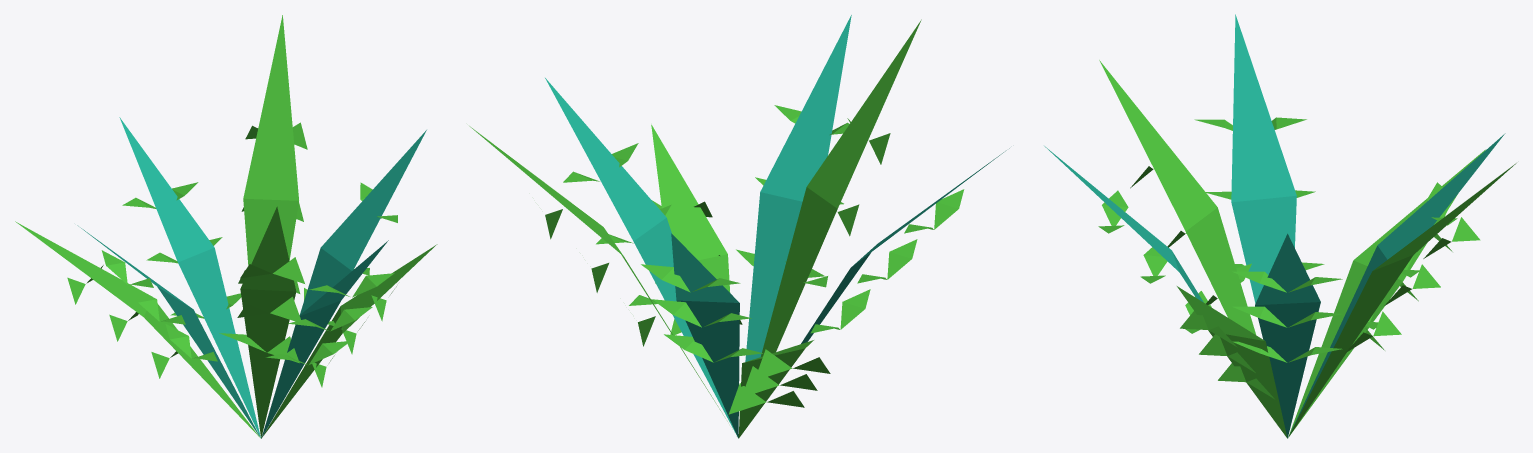
Rendered from fern_a.fbx.
3 renders of one model, left to right at view 1: azimuth 30°, elevation 25°; view 2: azimuth 150°, elevation 25°; view 3: azimuth 270°, elevation 25°, orthographic. The views are drawn at different scales.
Parts seen in each view (by area): view 1: fern_a; view 2: fern_a; view 3: fern_a.
Part boxes in pixels (<box>): fern_a: <box>15,15,437,438</box>; fern_a: <box>469,15,1009,438</box>; fern_a: <box>1044,14,1516,438</box>.
Bounding box in the file's own units: 1 × 0.8 × 1.
